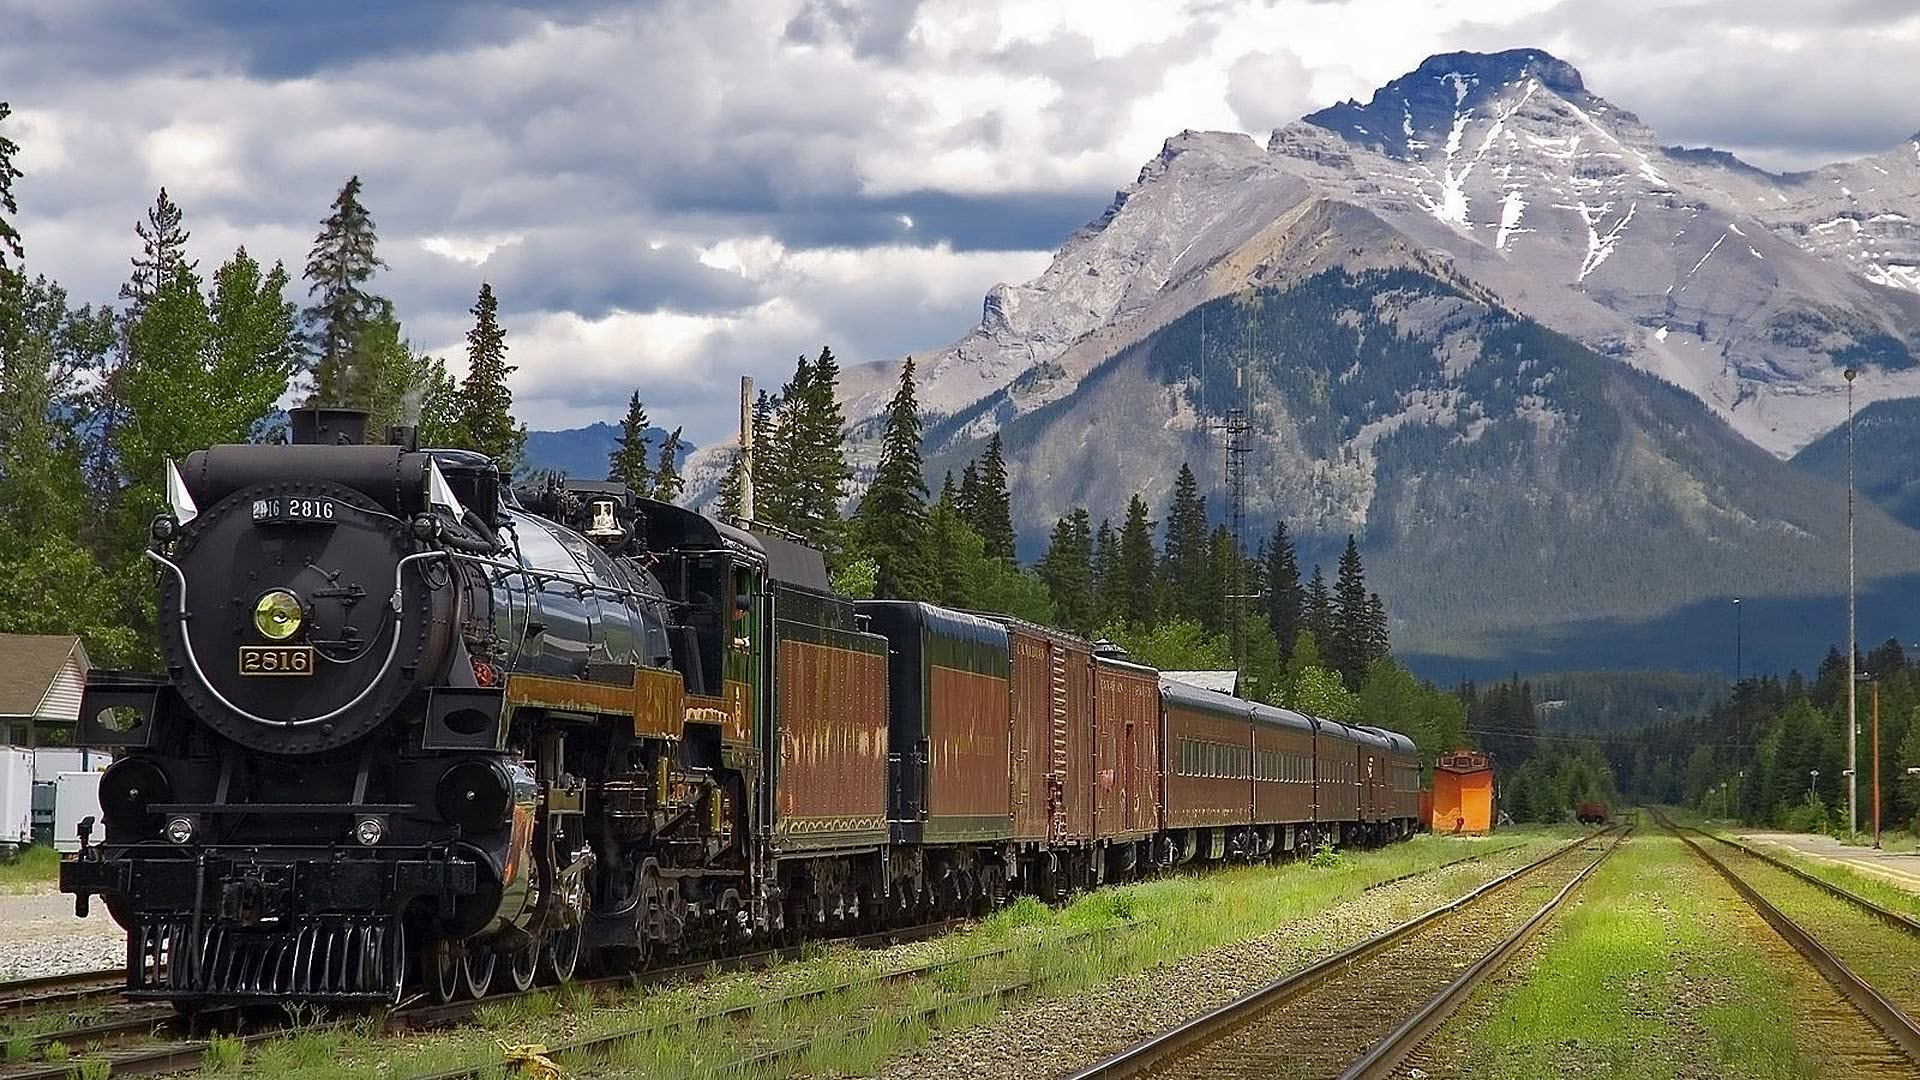train: (51, 409, 1425, 1031)
